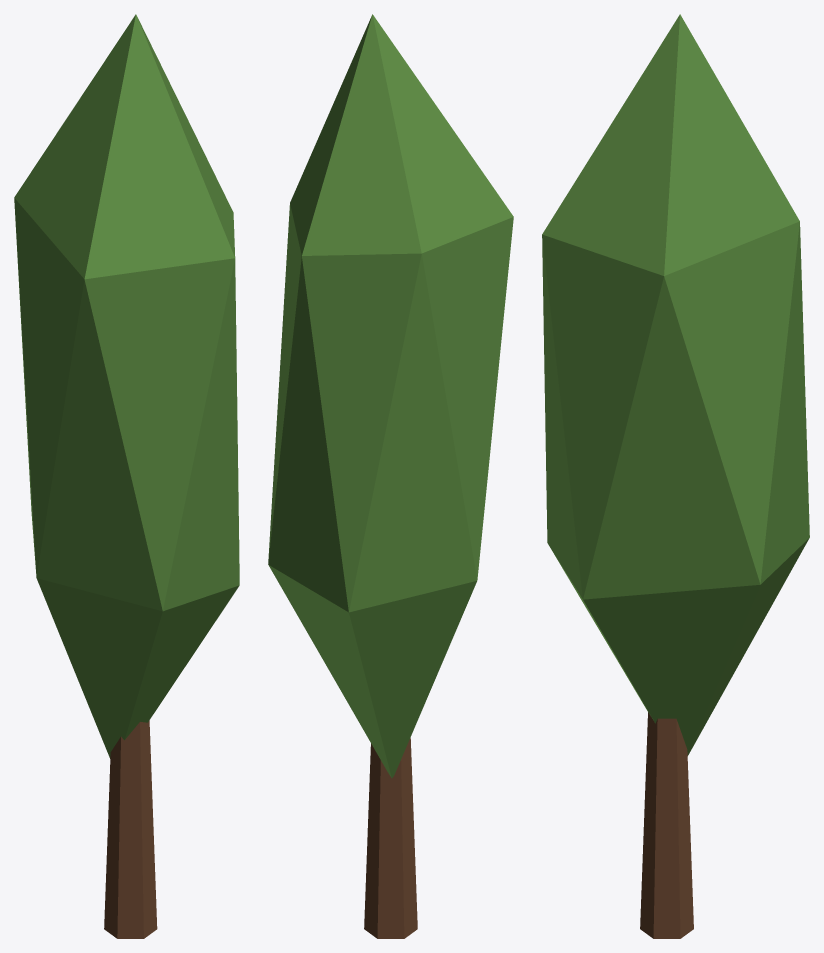
File: Poplar_B.glb
The picture shows the model from 3 angles, left to right: view 1: azimuth 30°, elevation 25°; view 2: azimuth 150°, elevation 25°; view 3: azimuth 270°, elevation 25°; orthographic projection.
Visible parts, largest first — view 1: Poplar_B; view 2: Poplar_B; view 3: Poplar_B.
Boxes of the visible parts, bbox=[...] form: Poplar_B: bbox=[14, 14, 239, 938]; Poplar_B: bbox=[268, 14, 513, 938]; Poplar_B: bbox=[542, 14, 809, 938].
Size of the model in its own units: 1.66 by 7.54 by 1.99.
